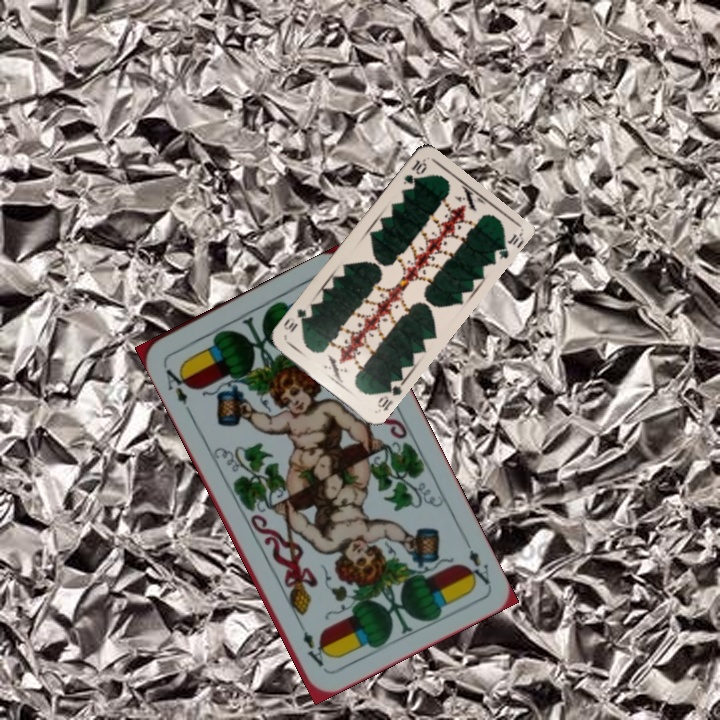EA: (460, 533, 493, 588), (161, 362, 193, 415)
G10: (373, 376, 405, 414), (399, 155, 429, 187)
